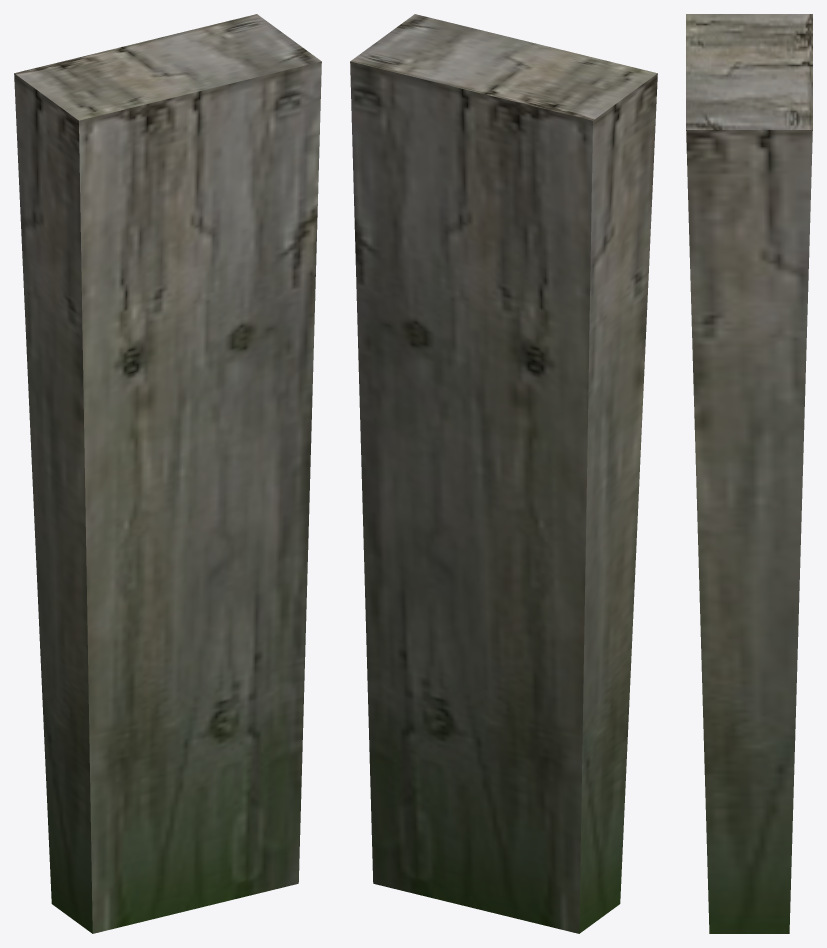
File: pir_m_prp_fnc_woodPost.fbx
3 views of the same model, side by side, from view 1: azimuth 30°, elevation 25°; view 2: azimuth 150°, elevation 25°; view 3: azimuth 270°, elevation 25° (orthographic). The views are drawn at different scales.
Parts seen in each view (by area): view 1: woodPost; view 2: woodPost; view 3: woodPost.
Boxes of the visible parts, x1=… form: woodPost: x1=14, y1=14, x2=321, y2=933; woodPost: x1=350, y1=14, x2=657, y2=933; woodPost: x1=686, y1=14, x2=812, y2=933.
Size of the model in its own units: 152 by 494 by 70.05.
Materials: 1 (1 with a texture image).
